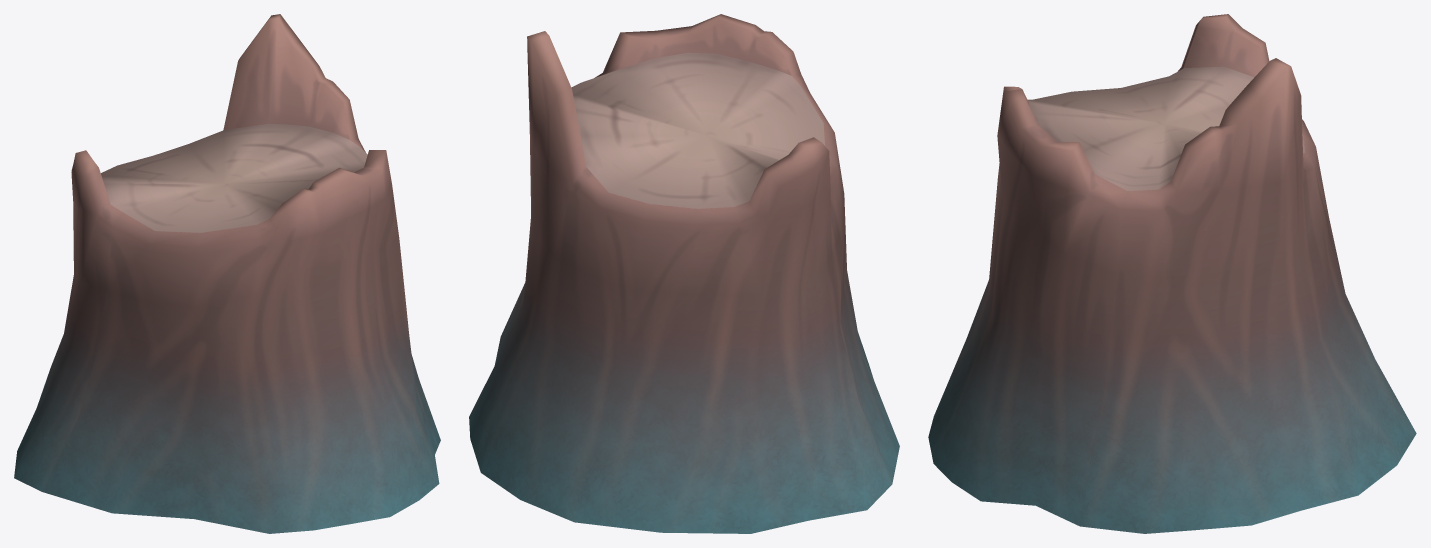
3 views of the same model, side by side, from view 1: azimuth 30°, elevation 25°; view 2: azimuth 150°, elevation 25°; view 3: azimuth 270°, elevation 25° (orthographic). The views are drawn at different scales.
Parts seen in each view (by area): view 1: submesh_0; view 2: submesh_0; view 3: submesh_0.
Part boxes in pixels (left/top/right/bottom): submesh_0: left=14, top=14, right=440, bottom=533; submesh_0: left=469, top=14, right=899, bottom=533; submesh_0: left=928, top=14, right=1416, bottom=533.
Size of the model in its own units: 1.14 by 1.13 by 1.17.
Materials: 1 (1 with a texture image).
